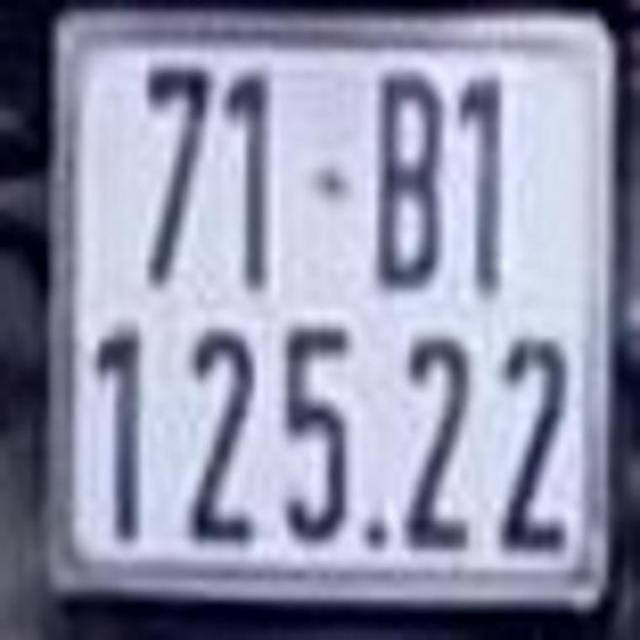1: (452, 69, 512, 298), (222, 62, 280, 292), (92, 320, 150, 540)
2: (399, 332, 475, 548), (180, 324, 256, 540), (501, 332, 570, 550)
5: (270, 318, 349, 540)
7: (131, 62, 213, 284)
B: (368, 59, 443, 280)
